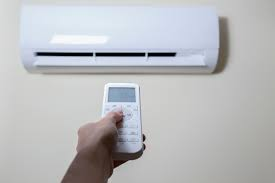ac: (15, 1, 233, 78)
